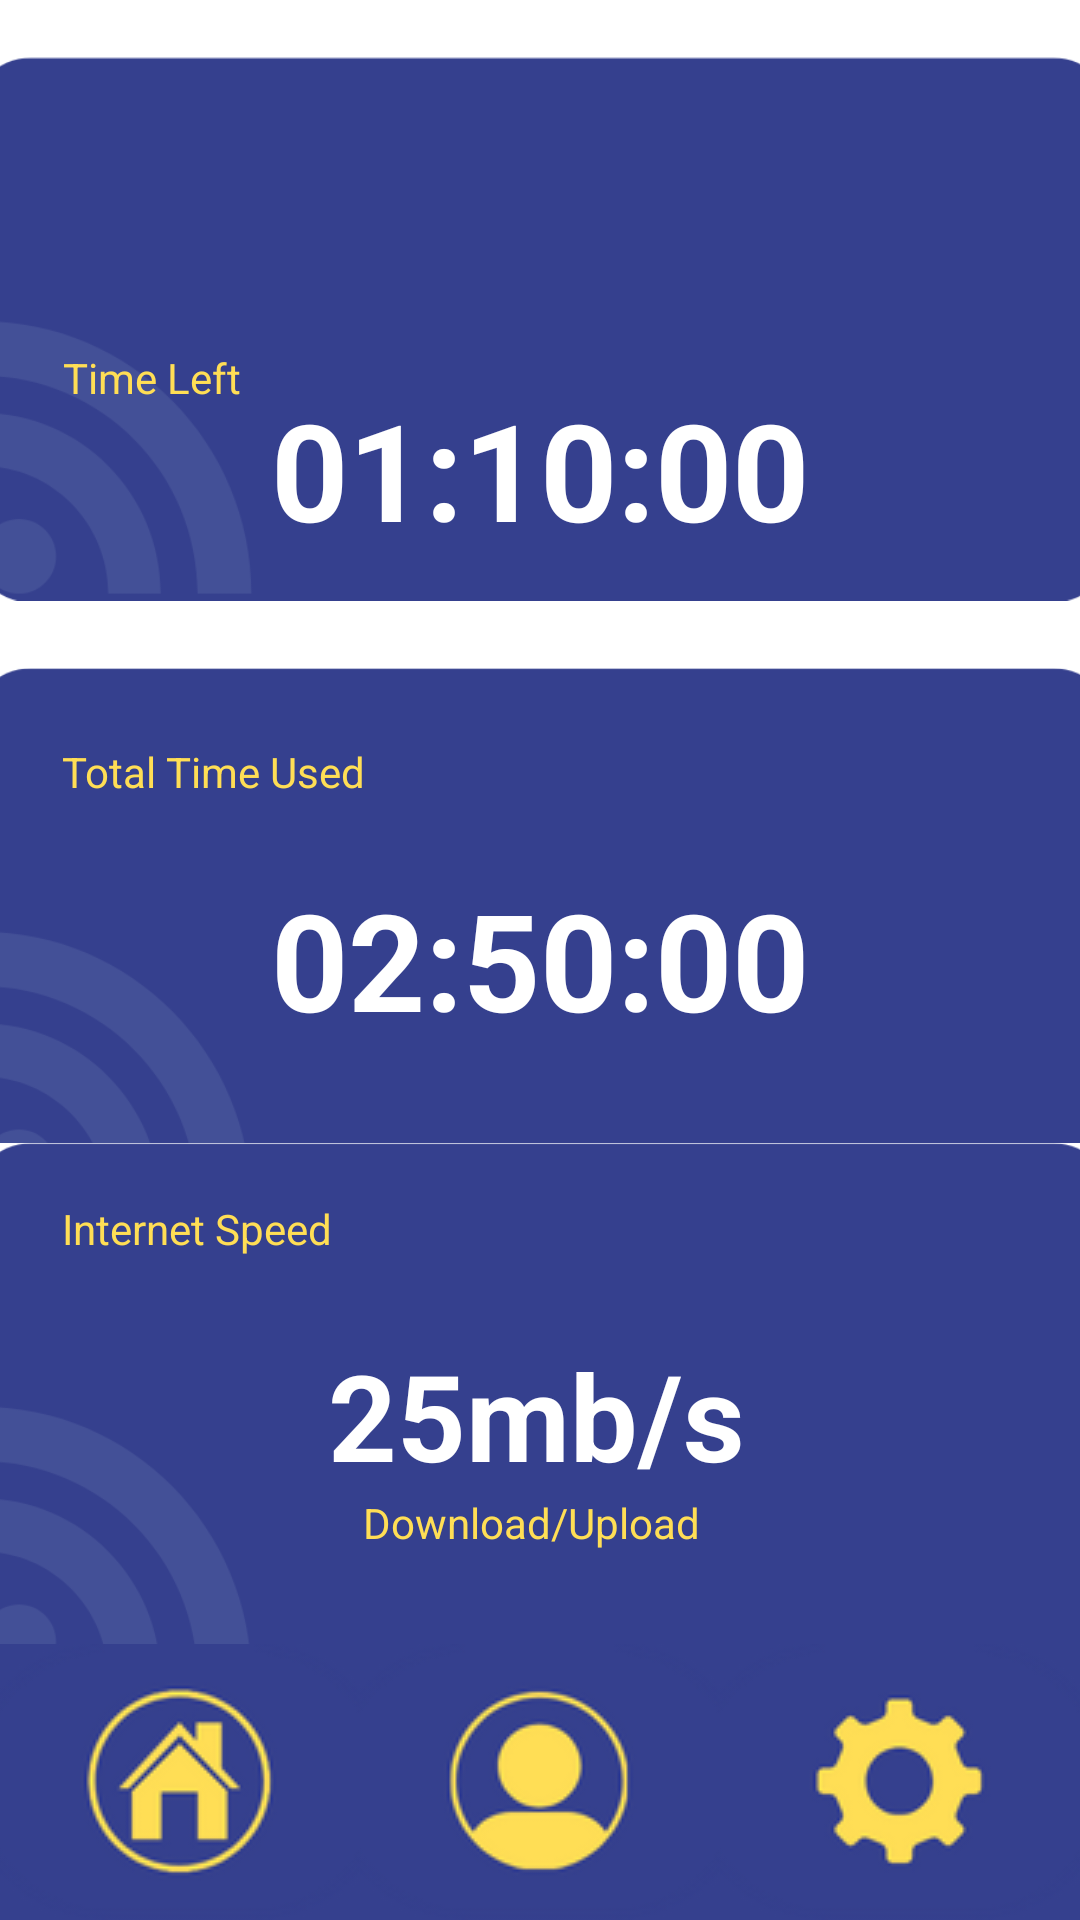

Where to tap for icons on this 1080×1920 app screen, as (x,y):
home: (179,1781)
profilebut: (538,1780)
settings: (899,1781)
